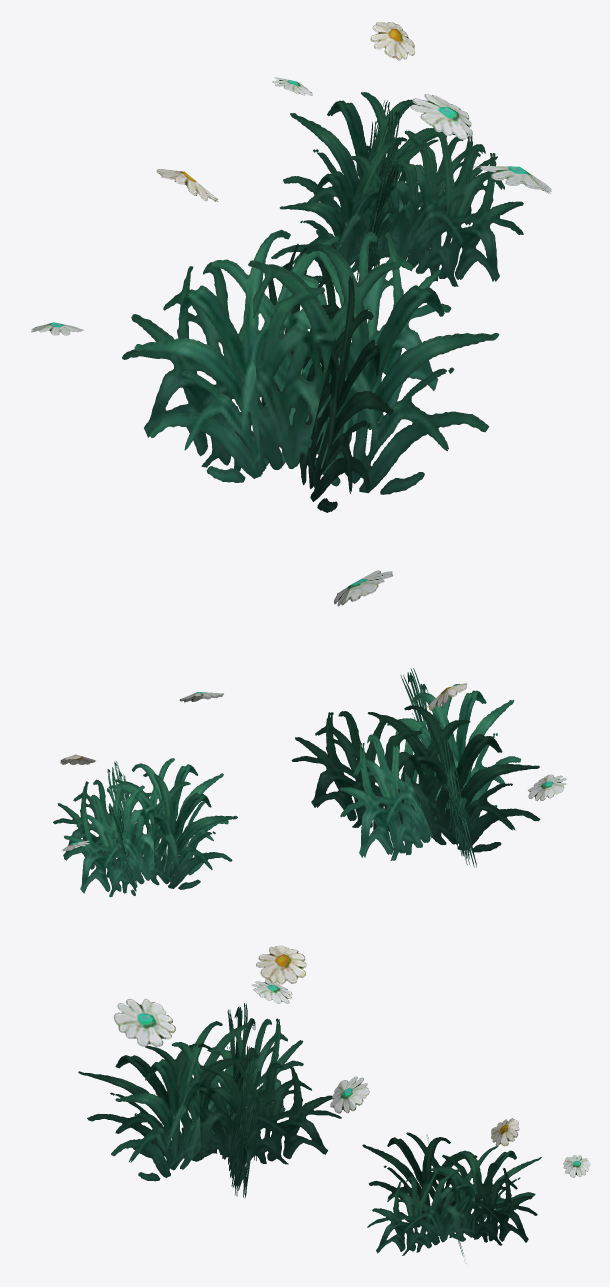
Rendered from Area_04_5.fbx.
3 views of the same model, one above another, from view 1: azimuth 30°, elevation 25°; view 2: azimuth 150°, elevation 25°; view 3: azimuth 270°, elevation 25° (orthographic). The views are drawn at different scales.
Visible parts, largest first — view 1: Area_04_5; view 2: Area_04_5; view 3: Area_04_5.
Boxes of the visible parts, x1,y1,x2,y2 form: Area_04_5: [31, 22, 551, 512]; Area_04_5: [53, 570, 566, 897]; Area_04_5: [78, 945, 590, 1256].
Size of the model in its own units: 468 by 214 by 510.
